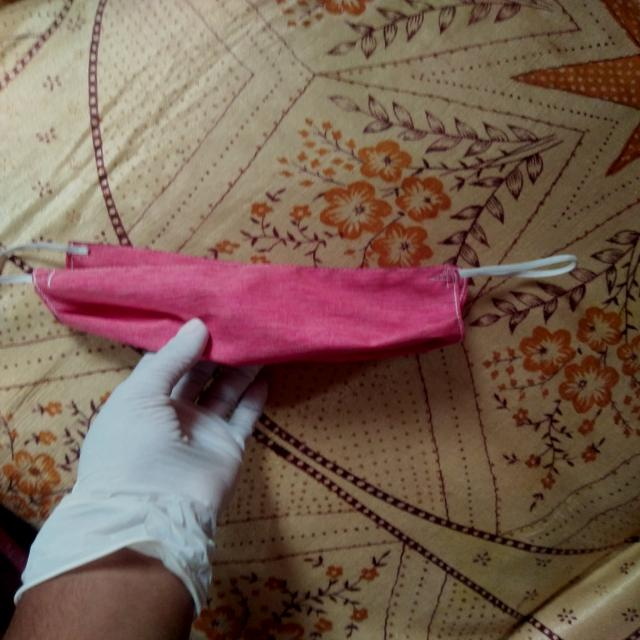glove: (8, 308, 292, 622)
